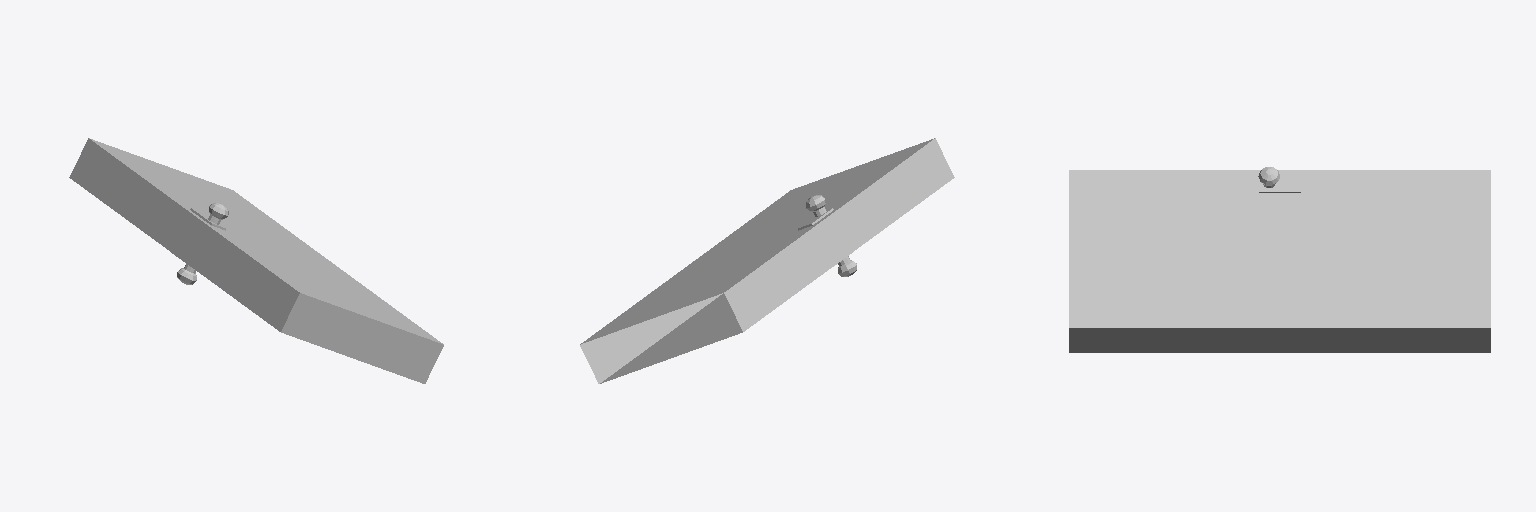
File: f_Door(Reverse_open_1_3).obj
3 views of the same model, side by side, from view 1: azimuth 30°, elevation 25°; view 2: azimuth 150°, elevation 25°; view 3: azimuth 270°, elevation 25° (orthographic).
Visible parts, largest first — view 1: Door.001; view 2: Door.001; view 3: Door.001.
Boxes of the visible parts, <box> form: Door.001: <box>69,138,443,383</box>; Door.001: <box>580,138,954,383</box>; Door.001: <box>1069,167,1490,352</box>.
Bounding box in the file's own units: 8.58 × 6.6 × 19.